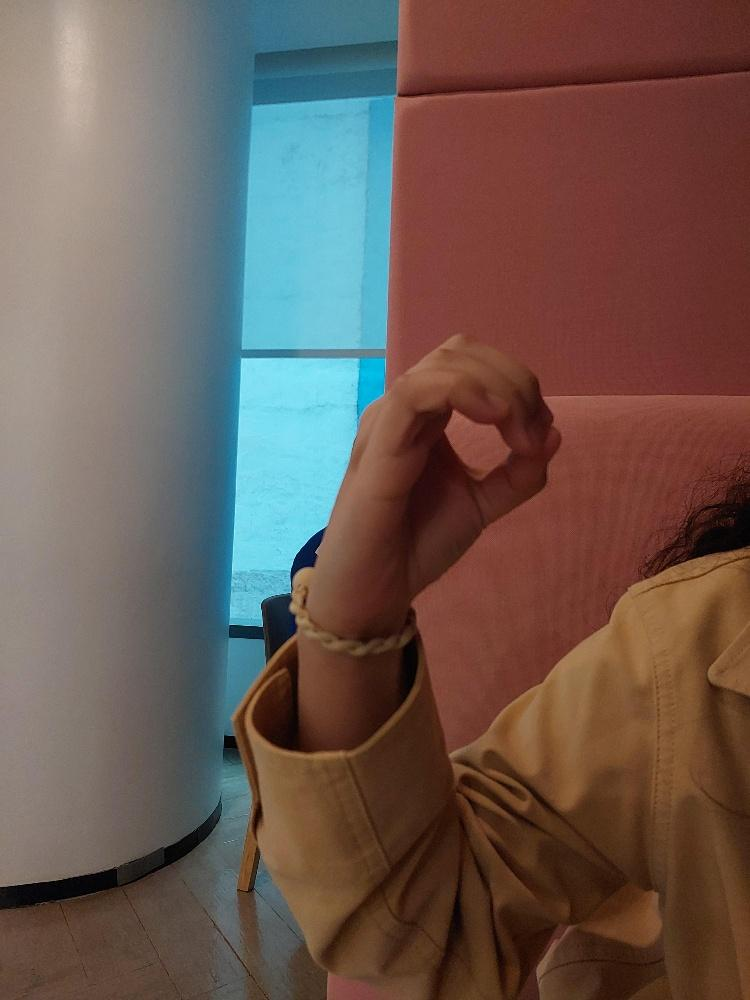o: (295, 325, 571, 630)
